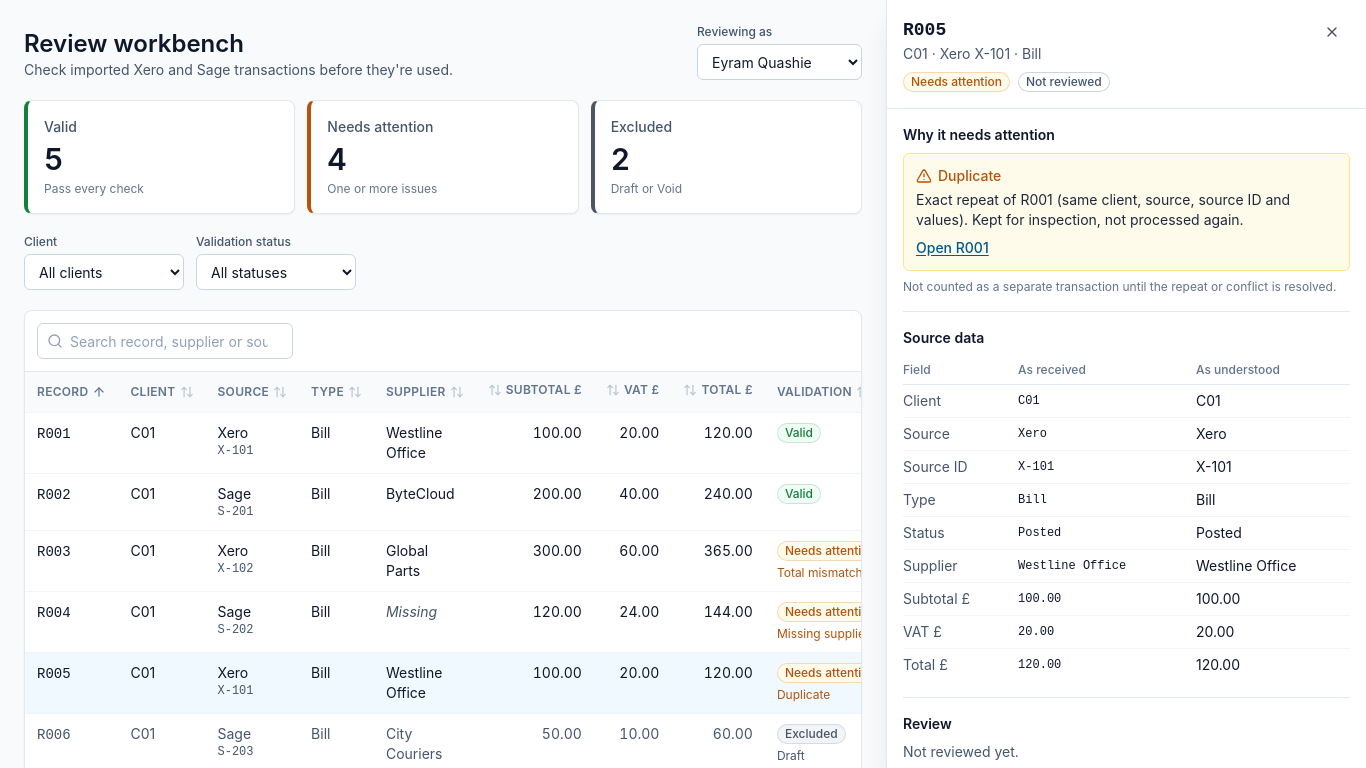
Test: Record detail panel › explaining the record › links a repeat to the original record
Expected: the text "R001" is shown, [37, 426, 71, 442]
Expected: the dropdown labelled "Reviewing as" is enabled, [697, 44, 862, 80]
Click the button "Open R001" at (952, 248), box [916, 238, 989, 258]
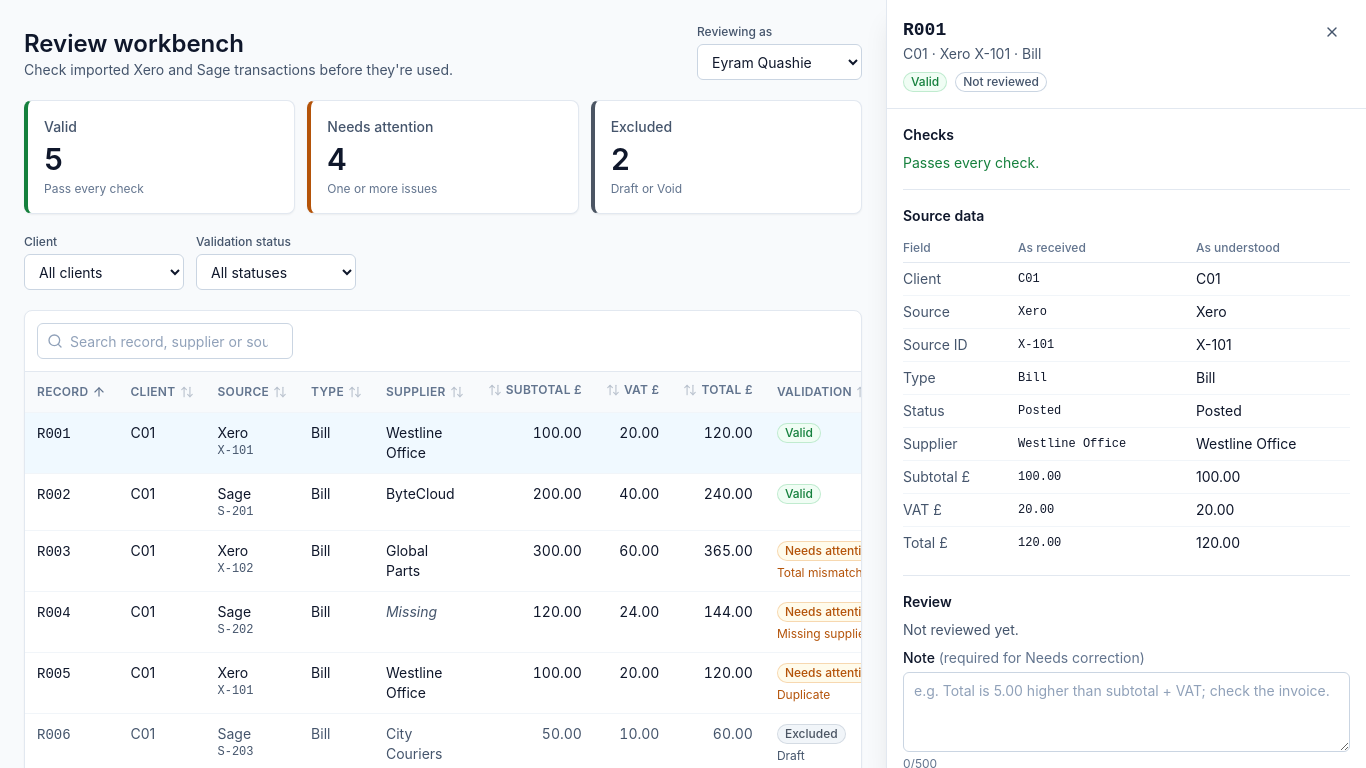
Expected: the element named "Record R001" is shown, [886, 0, 1365, 767]
